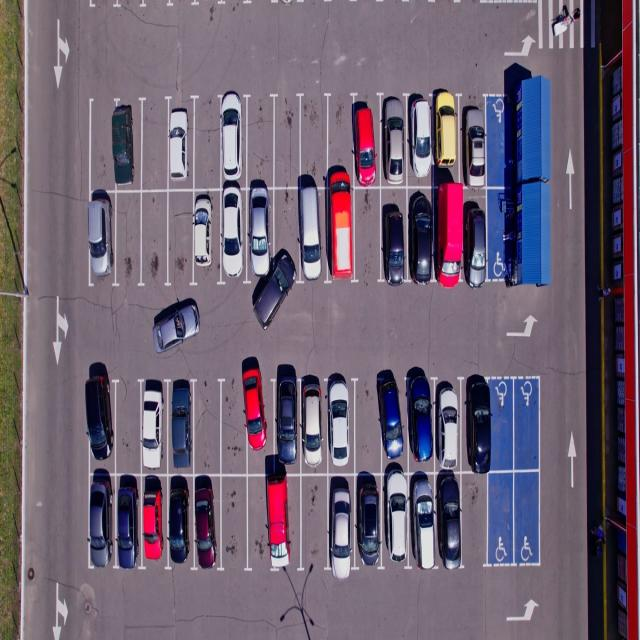space-empty: (298, 473, 330, 574), (86, 98, 118, 195), (192, 378, 224, 474), (138, 190, 170, 286), (192, 97, 224, 192), (139, 98, 171, 192), (218, 378, 249, 475), (113, 380, 144, 475), (168, 188, 198, 285), (114, 190, 144, 285), (352, 377, 382, 472), (328, 93, 358, 186), (271, 188, 302, 278), (351, 187, 381, 279), (247, 96, 277, 187), (219, 475, 247, 570), (514, 471, 543, 562), (486, 470, 514, 564), (462, 471, 490, 565), (248, 472, 274, 572), (298, 96, 326, 187), (515, 378, 542, 471), (489, 379, 515, 475), (273, 97, 301, 186)
space-occupied: (268, 471, 302, 573), (245, 373, 278, 473), (431, 183, 463, 281), (349, 472, 382, 566), (168, 96, 200, 192), (326, 375, 358, 471), (112, 98, 144, 192), (168, 378, 199, 473), (216, 187, 247, 282), (378, 474, 410, 566), (192, 478, 223, 572), (190, 189, 221, 283), (85, 375, 115, 472), (296, 186, 327, 279), (85, 190, 115, 286), (299, 375, 329, 471), (140, 381, 170, 476), (327, 472, 356, 570), (432, 376, 462, 470), (406, 376, 435, 472), (246, 186, 276, 278), (407, 92, 437, 184), (326, 186, 356, 278), (378, 377, 407, 472), (274, 376, 302, 474), (218, 96, 247, 190), (432, 470, 461, 564), (378, 186, 407, 280), (408, 185, 436, 280), (140, 472, 168, 566), (409, 470, 437, 564), (353, 96, 382, 186), (432, 95, 461, 185), (169, 476, 196, 571), (379, 97, 407, 187), (115, 472, 142, 564), (466, 379, 492, 473), (88, 473, 114, 562), (467, 188, 490, 285), (465, 96, 489, 186)
